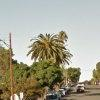Palm tree: (26, 22, 76, 86)
